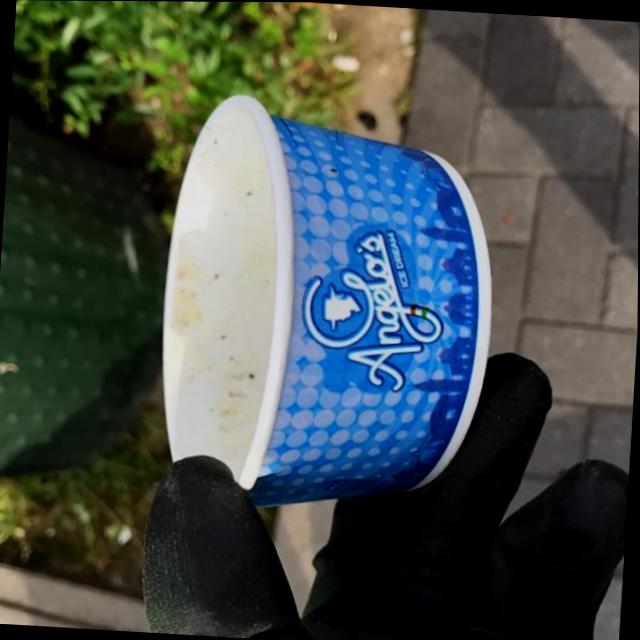Paper: (148, 85, 507, 522)
